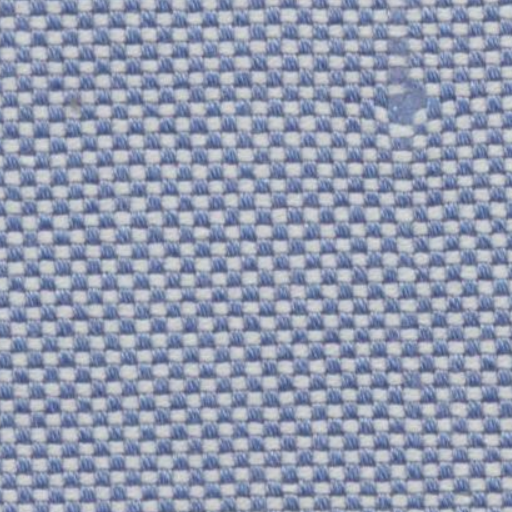MianQiu: (350, 71, 444, 134)
